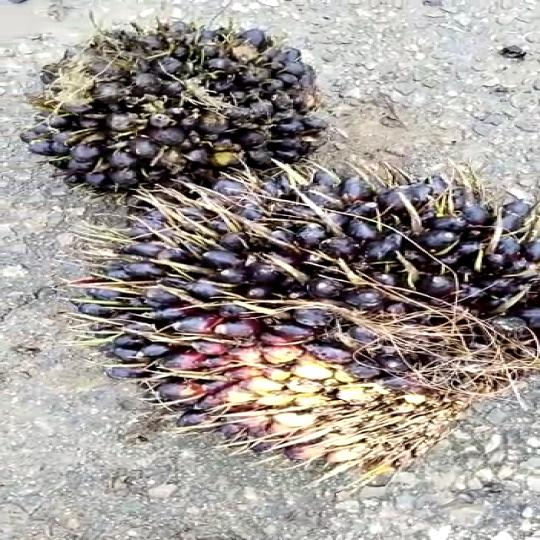mentah: (62, 162, 538, 482), (13, 26, 291, 190)
